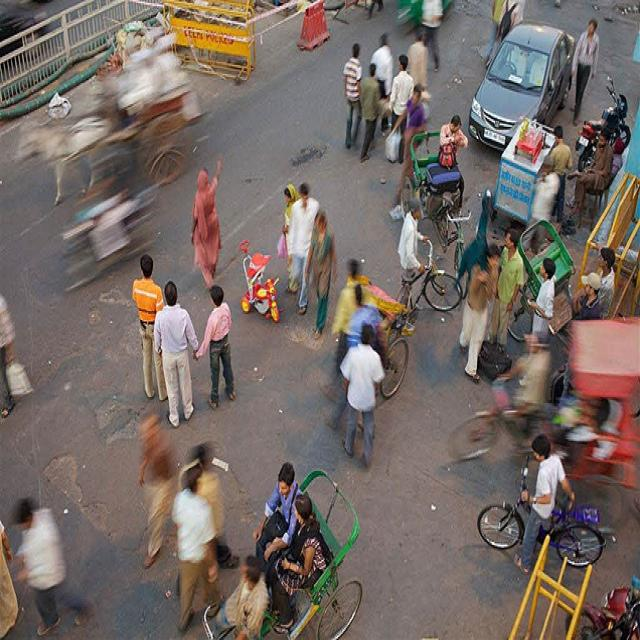body: (10, 495, 92, 637), (72, 74, 135, 257), (499, 340, 607, 436), (510, 430, 578, 578), (268, 489, 336, 636), (323, 284, 382, 433), (171, 465, 222, 635), (336, 322, 386, 472), (134, 416, 182, 570), (0, 291, 21, 640), (152, 279, 200, 430), (251, 459, 305, 590), (456, 241, 501, 382), (129, 252, 169, 403), (205, 548, 272, 638), (382, 81, 427, 213), (192, 279, 236, 412), (394, 195, 432, 338), (190, 155, 226, 293), (302, 208, 339, 340), (330, 255, 371, 374), (564, 125, 615, 219), (286, 180, 321, 316), (487, 226, 524, 354), (521, 156, 562, 255), (190, 441, 227, 542), (384, 51, 416, 166), (568, 13, 600, 124), (275, 181, 302, 296), (368, 32, 396, 131), (341, 42, 365, 150), (357, 60, 382, 163), (548, 122, 572, 225), (526, 257, 556, 335), (418, 0, 444, 74), (404, 26, 430, 92), (484, 0, 508, 66), (596, 246, 616, 322), (574, 272, 602, 320), (438, 114, 469, 150), (497, 0, 523, 42), (366, 0, 384, 20)
